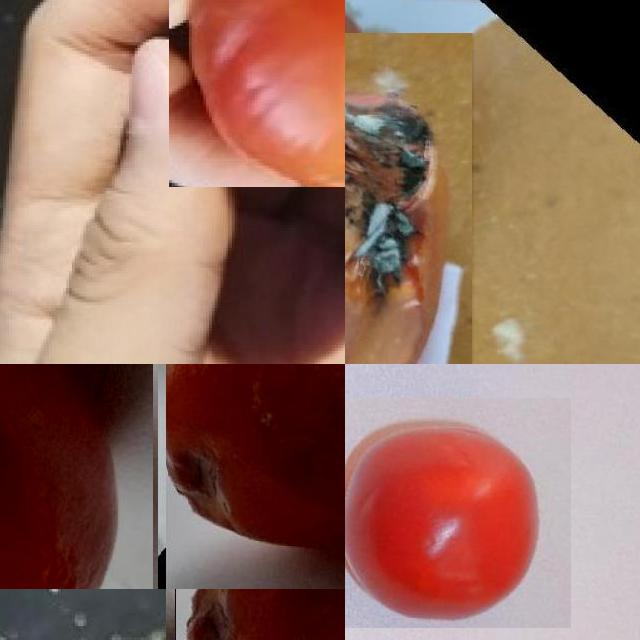1: (345, 33, 474, 364), (166, 364, 345, 589), (0, 364, 153, 589)
Fresh Tomato: (345, 398, 571, 628)
Rotten Tomato: (169, 0, 345, 187)
